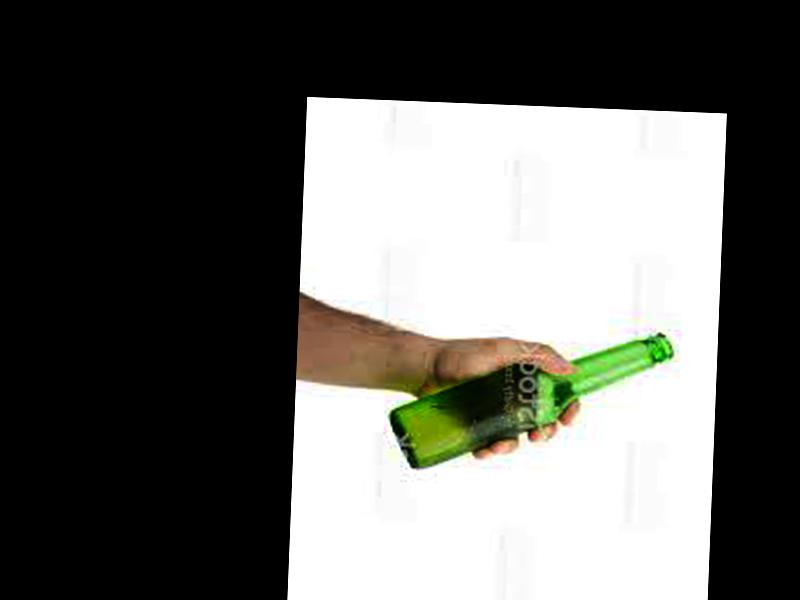Beer: (390, 322, 676, 479)
